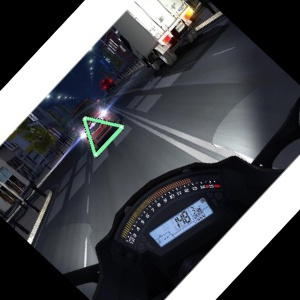triangle: (78, 113, 128, 160)
